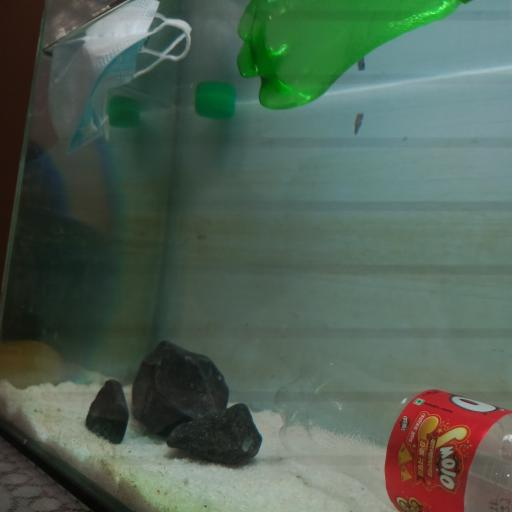bottle_cap: (194, 93, 235, 118)
mask: (48, 0, 192, 159)
plastic_bottle: (273, 355, 512, 512), (235, 0, 466, 111)
